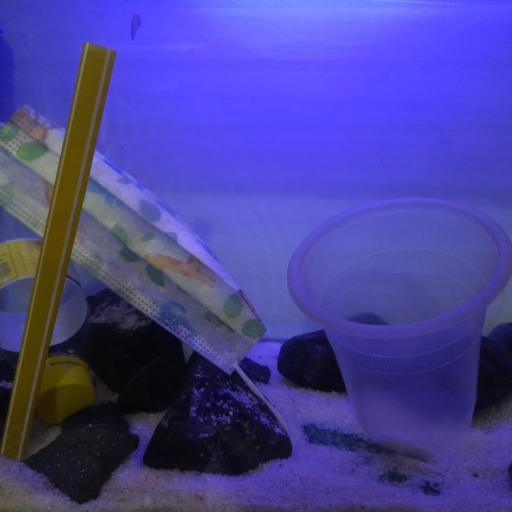bottle_cap: (34, 365, 96, 425)
mask: (0, 106, 271, 409)
plastic_bottle: (0, 206, 97, 426)
plastic_cup: (288, 197, 512, 456)
plastic_straw: (1, 39, 116, 459)
